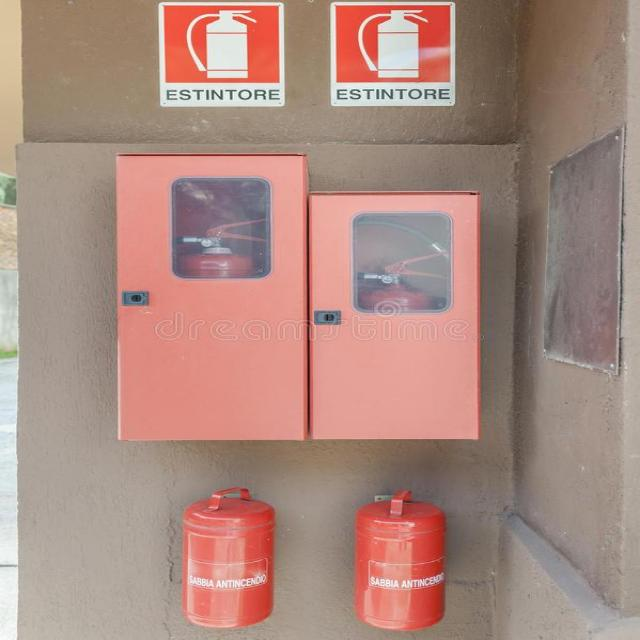fire_extinguisher: (323, 208, 461, 430), (154, 184, 265, 430), (352, 480, 454, 631), (177, 479, 277, 627)
